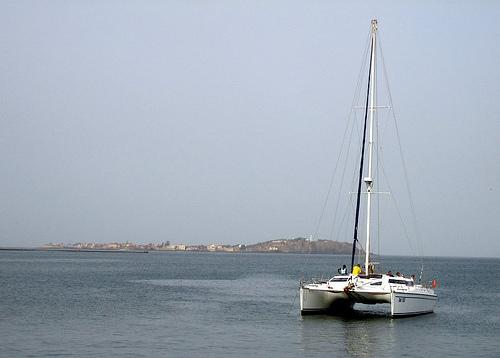Ship: (300, 20, 438, 319)
